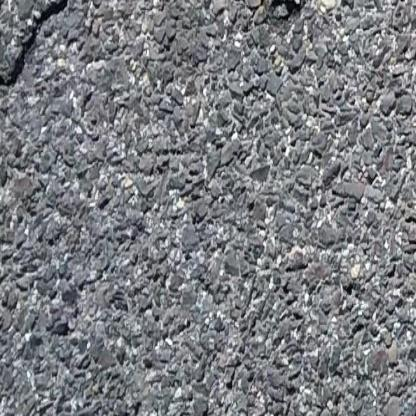Cracks: (0, 0, 89, 97), (270, 0, 322, 22)
